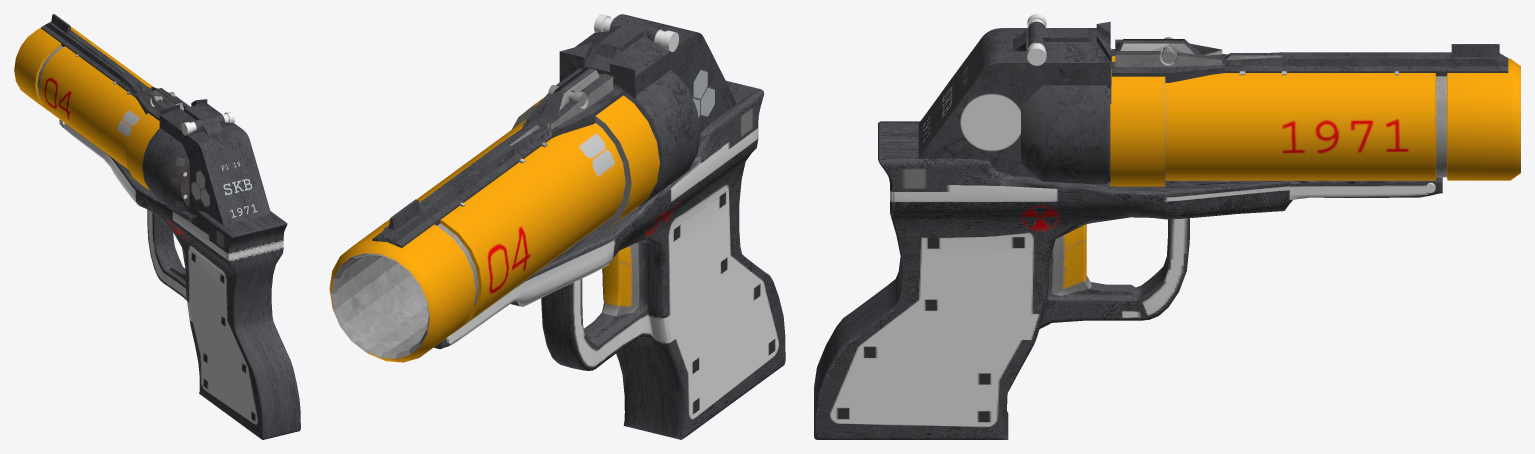
The model's file is flare-gun.glb.
The picture shows the model from 3 angles, left to right: view 1: azimuth 30°, elevation 25°; view 2: azimuth 150°, elevation 25°; view 3: azimuth 270°, elevation 25°; orthographic projection. The views are drawn at different scales.
Visible parts, largest first — view 1: Body, Muzzle, Up_Black, Bullet_Picker; view 2: Body, Muzzle, Up_Black, Bullet_Picker; view 3: Body, Muzzle, Up_Black, Bullet_Picker.
Part boxes in pixels (left/top/right/bottom): Body: left=59, top=119, right=300, bottom=439; Muzzle: left=14, top=14, right=189, bottom=189; Up_Black: left=159, top=99, right=270, bottom=225; Bullet_Picker: left=142, top=128, right=189, bottom=211; Body: left=434, top=80, right=785, bottom=439; Muzzle: left=329, top=67, right=659, bottom=362; Up_Black: left=559, top=14, right=736, bottom=132; Bullet_Picker: left=557, top=70, right=700, bottom=206; Body: left=814, top=121, right=1442, bottom=439; Muzzle: left=1110, top=37, right=1520, bottom=186; Up_Black: left=918, top=14, right=1110, bottom=176; Bullet_Picker: left=1021, top=48, right=1112, bottom=184.
Size of what is drawn, in the model's own units: 0.0306 by 0.095 by 0.1534.
Materials: 5 (4 with a texture image).
